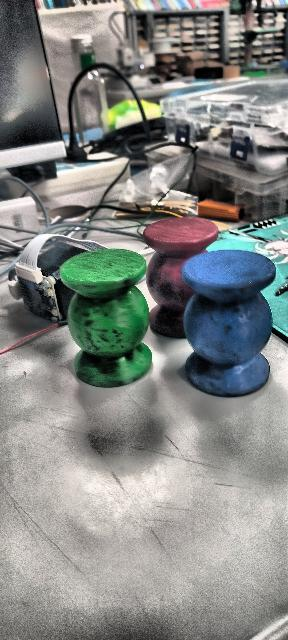blue: (180, 249, 276, 397)
green: (50, 243, 162, 386)
red: (144, 212, 230, 341)
